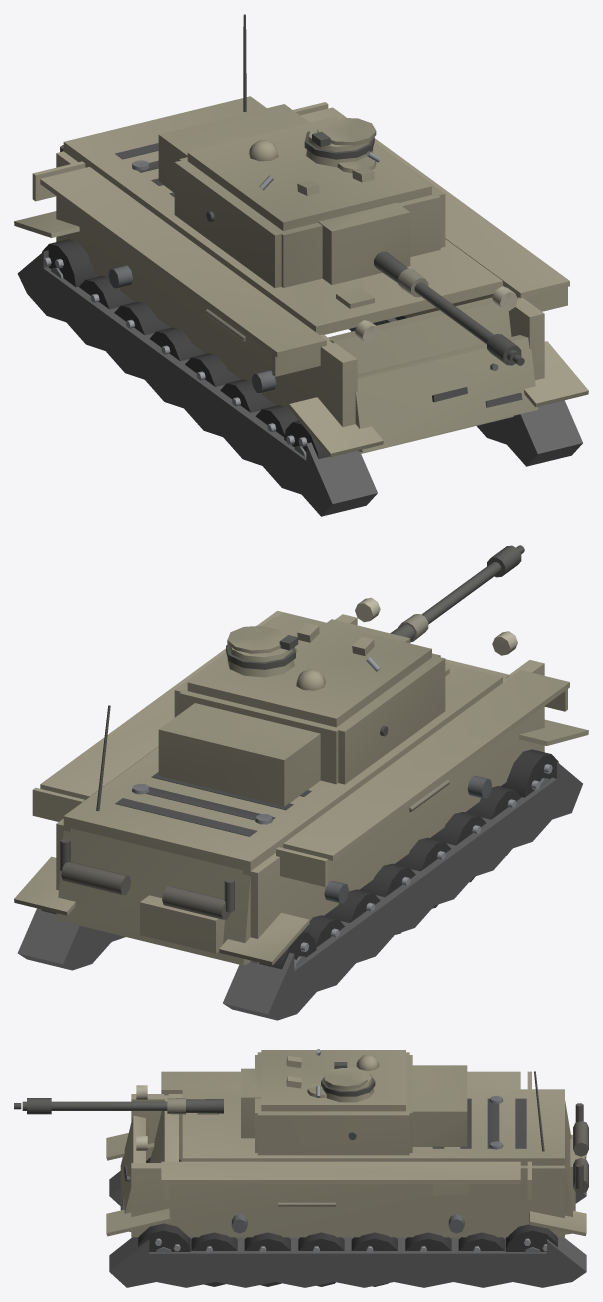
File: chinu.glb
3 views of the same model, one above another, from view 1: azimuth 30°, elevation 25°; view 2: azimuth 150°, elevation 25°; view 3: azimuth 270°, elevation 25° (orthographic). The views are drawn at different scales.
Parts seen in each view (by area): view 1: hullSide, tracks, hullTop, turretRoof, lowerPlate, turretFront, glacis, turretSide, mantlet, barrel, wheel7, wheel2 (+6 smaller); view 2: hullSide, tracks, hullTop, hullRear, turretRoof, turretFront, turretSide, turretRear, barrel, wheel6, wheel3, wheel4 (+5 smaller); view 3: hullSide, tracks, hullTop, turretRoof, turretSide, turretFront, barrel, hullRear, glacis, lowerPlate, mantlet, wheel14 (+8 smaller).
Boxes of the visible parts, left/top/right/bottom form: hullSide: left=32, top=102, right=569, bottom=426; tracks: left=14, top=211, right=588, bottom=516; hullTop: left=63, top=96, right=502, bottom=334; turretRoof: left=187, top=116, right=431, bottom=230; lowerPlate: left=355, top=335, right=538, bottom=452; turretFront: left=158, top=104, right=440, bottom=287; glacis: left=328, top=287, right=522, bottom=453; turretSide: left=174, top=142, right=445, bottom=288; mantlet: left=318, top=202, right=410, bottom=284; barrel: left=374, top=251, right=524, bottom=365; wheel7: left=42, top=239, right=99, bottom=287; wheel2: left=149, top=327, right=205, bottom=361; hullSide: left=32, top=597, right=569, bottom=963; tracks: left=14, top=719, right=588, bottom=1020; hullTop: left=63, top=663, right=502, bottom=871; hullRear: left=56, top=705, right=252, bottom=965; turretRoof: left=187, top=612, right=431, bottom=727; turretFront: left=158, top=653, right=440, bottom=806; turretSide: left=174, top=617, right=445, bottom=784; turretRear: left=179, top=687, right=343, bottom=784; barrel: left=390, top=545, right=524, bottom=642; wheel6: left=501, top=749, right=558, bottom=797; wheel3: left=395, top=837, right=450, bottom=908; wheel4: left=430, top=812, right=486, bottom=882; hullSide: left=131, top=1071, right=564, bottom=1237; tracks: left=106, top=1133, right=586, bottom=1287; hullTop: left=182, top=1089, right=564, bottom=1165; turretRoof: left=261, top=1049, right=405, bottom=1111; turretSide: left=257, top=1052, right=409, bottom=1155; turretFront: left=255, top=1055, right=467, bottom=1152; barrel: left=14, top=1098, right=223, bottom=1114; hullRear: left=534, top=1071, right=588, bottom=1234; glacis: left=121, top=1097, right=218, bottom=1210; lowerPlate: left=120, top=1115, right=145, bottom=1231; mantlet: left=241, top=1068, right=261, bottom=1138; wheel14: left=138, top=1223, right=190, bottom=1252.
Bounding box in the file's own units: 3.54 × 3.01 × 7.95.
